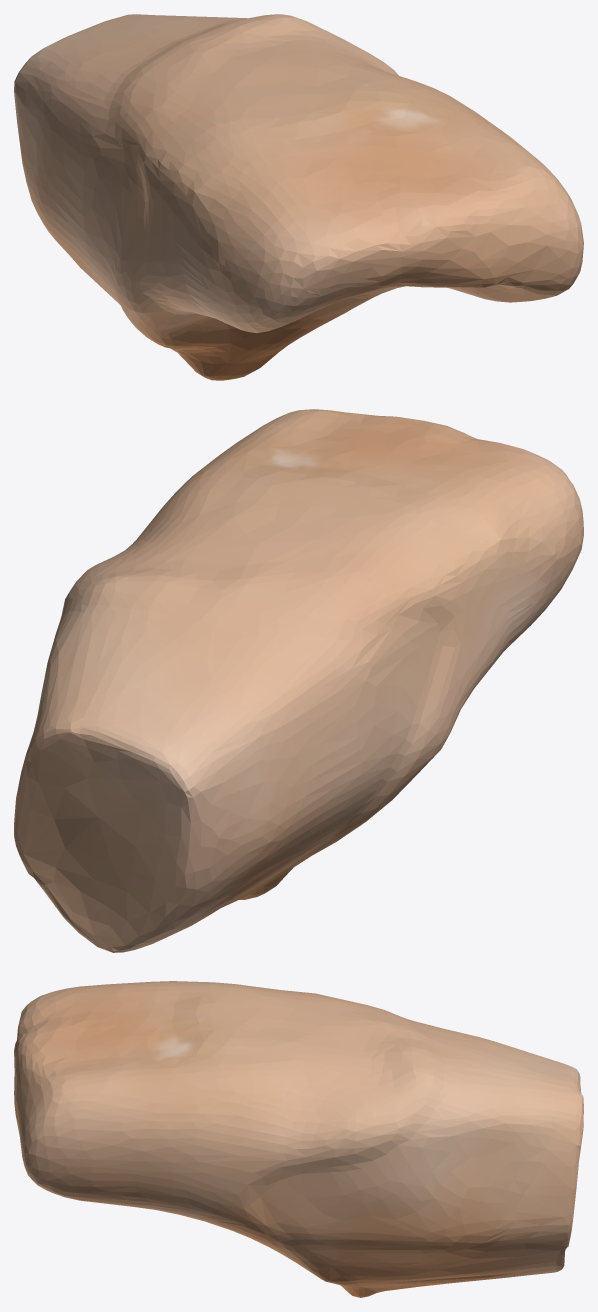
The model's file is local_t31_7780.OBJ.
3 views of the same model, one above another, from view 1: azimuth 30°, elevation 25°; view 2: azimuth 150°, elevation 25°; view 3: azimuth 270°, elevation 25° (orthographic). The views are drawn at different scales.
Visible parts, largest first — view 1: ZBrush_defualt_group; view 2: ZBrush_defualt_group; view 3: ZBrush_defualt_group.
Part boxes in pixels (bbox=[...]): ZBrush_defualt_group: bbox=[14, 14, 583, 380]; ZBrush_defualt_group: bbox=[14, 409, 583, 952]; ZBrush_defualt_group: bbox=[14, 981, 583, 1297].
Size of the model in its own units: 5.69 by 5.61 by 10.51.
1 material, 1 textured.
